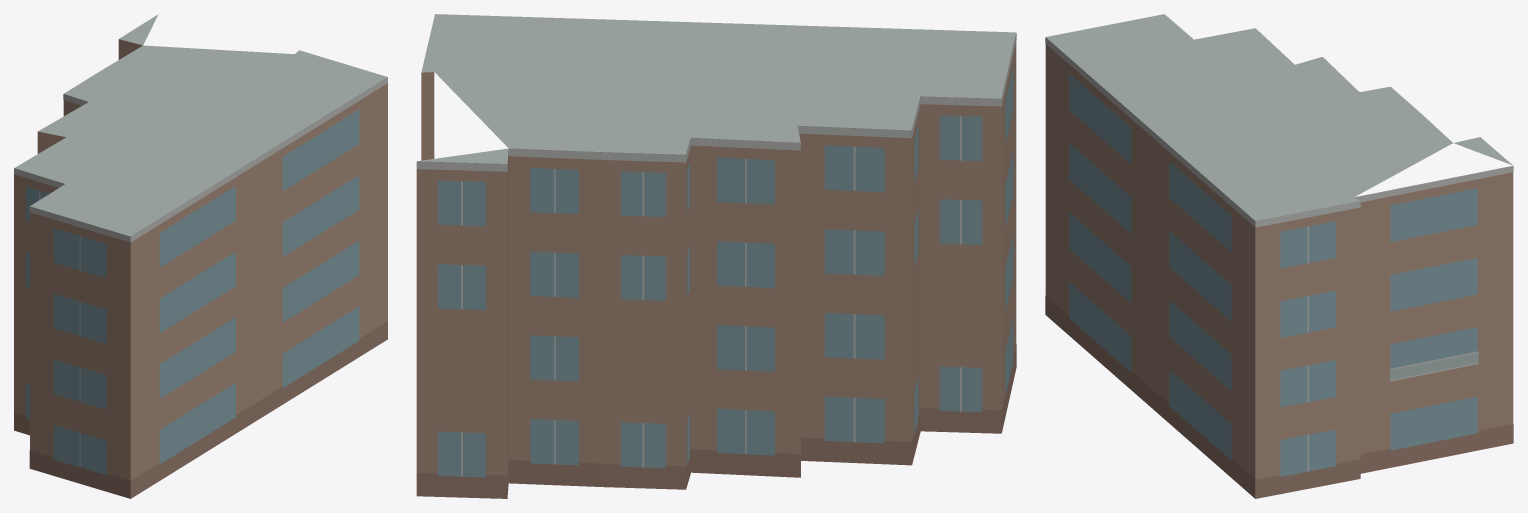
File: survey-upis-32916645.glb
3 renders of one model, left to right at view 1: azimuth 30°, elevation 25°; view 2: azimuth 150°, elevation 25°; view 3: azimuth 270°, elevation 25°, orthographic. The views are drawn at different scales.
Visible parts, largest first — view 1: survey-upis-32916645.tmp; view 2: survey-upis-32916645.tmp; view 3: survey-upis-32916645.tmp.
Boxes of the visible parts, x1,y1,x2,y2 form: survey-upis-32916645.tmp: (14,14,387,498); survey-upis-32916645.tmp: (416,14,1016,498); survey-upis-32916645.tmp: (1045,14,1513,498).
Bounding box in the file's own units: 16.8 × 10.5 × 16.04.
